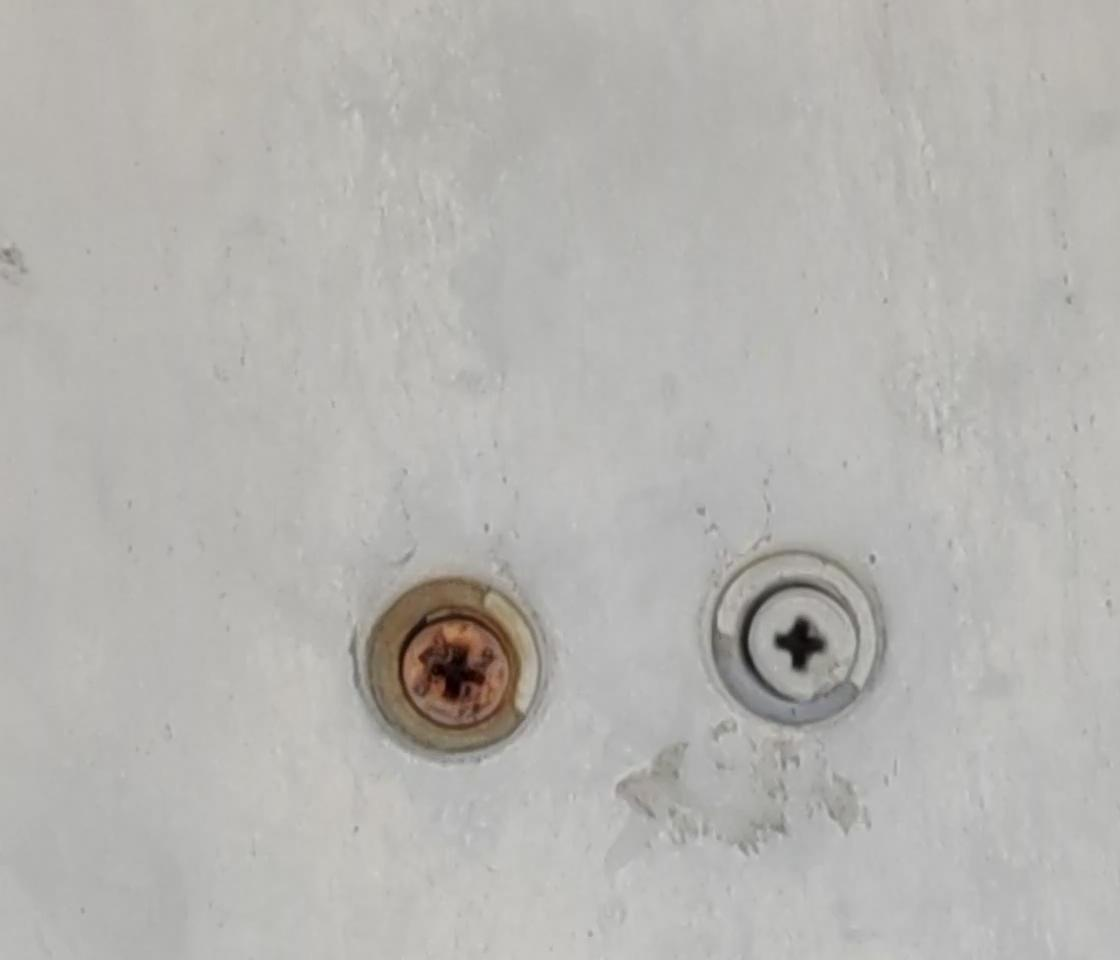rivet_damage: (343, 565, 547, 768)
